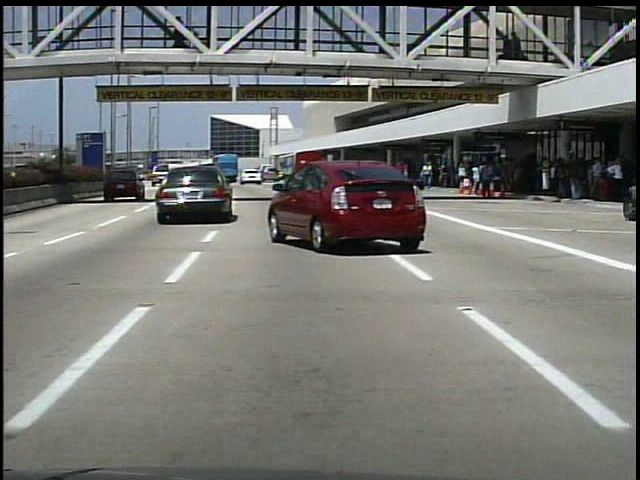person: (477, 160, 495, 206), (172, 20, 188, 52)
